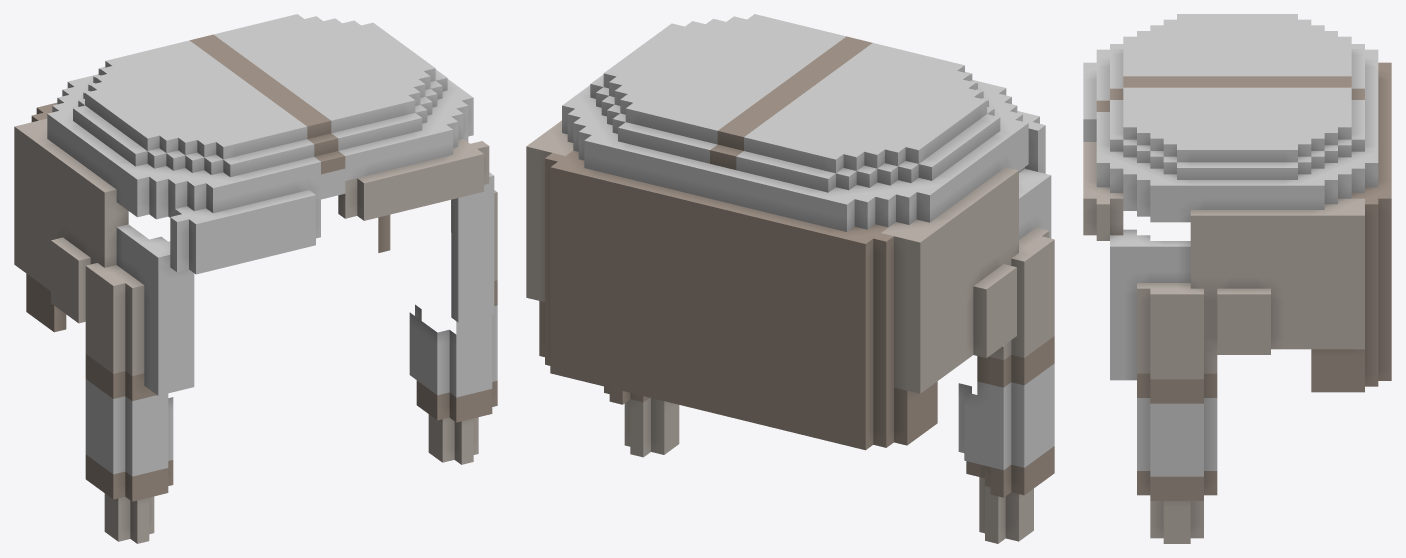
Rendered from hair_f_twin_braids.glb.
3 views of the same model, side by side, from view 1: azimuth 30°, elevation 25°; view 2: azimuth 150°, elevation 25°; view 3: azimuth 270°, elevation 25° (orthographic). The views are drawn at different scales.
Visible parts, largest first — view 1: VoxelVisual; view 2: VoxelVisual; view 3: VoxelVisual.
Boxes of the visible parts, x1,y1,x2,y2 form: VoxelVisual: (14, 14, 497, 543); VoxelVisual: (526, 14, 1054, 543); VoxelVisual: (1083, 14, 1391, 543).
Size of what is drawn, in the model's own units: 2 by 1.94 by 1.44.
